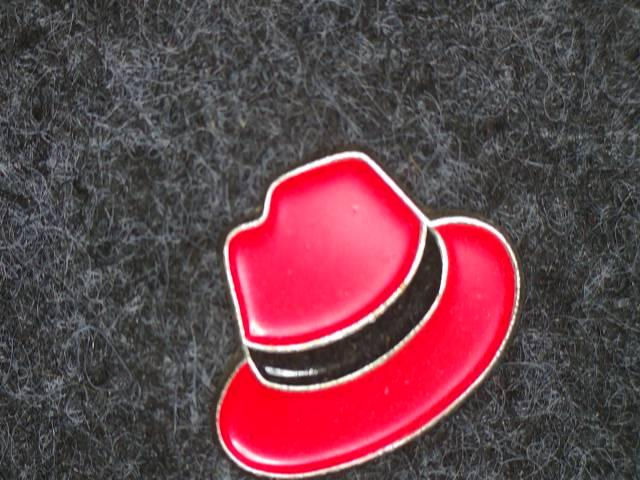Red-Hat: (153, 139, 565, 480)
